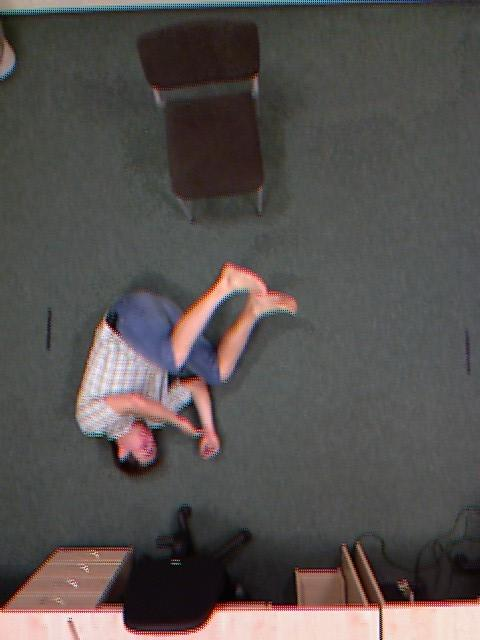fall: (107, 219, 267, 530)
